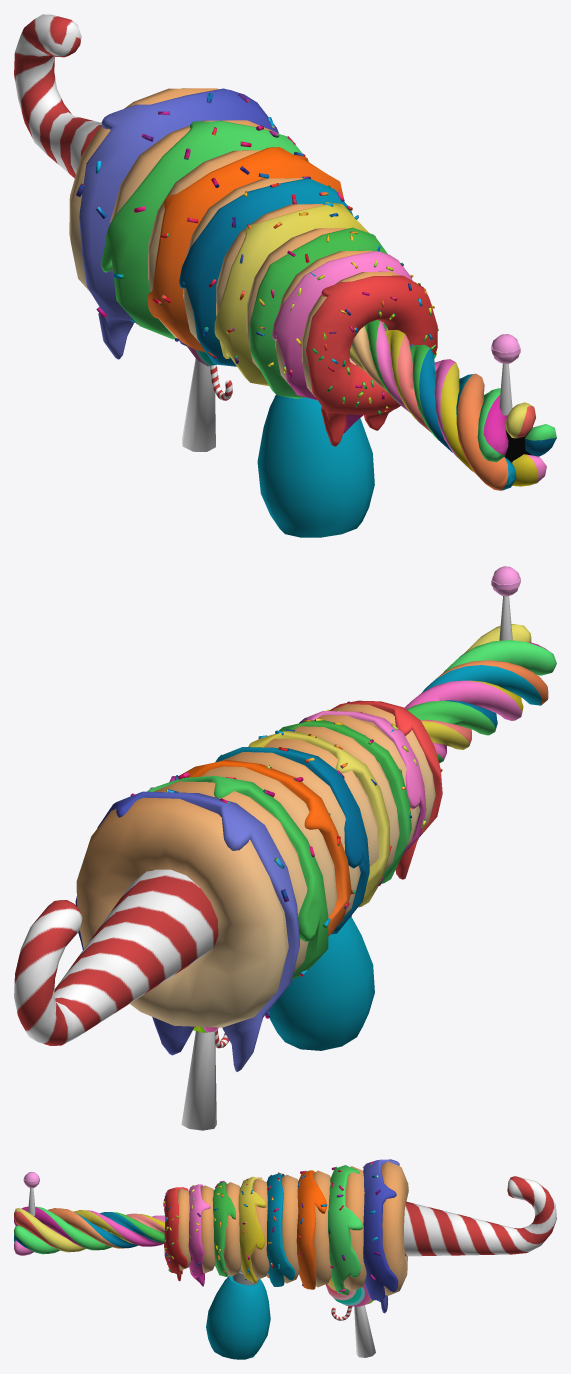
Rendered from CandyRifleMesh.fbx.
3 renders of one model, top to bottom at view 1: azimuth 30°, elevation 25°; view 2: azimuth 150°, elevation 25°; view 3: azimuth 270°, elevation 25°, orthographic. The views are drawn at different scales.
Parts seen in each view (by area): view 1: Gun, Gun.002, Jar; view 2: Gun, Gun.002, Jar; view 3: Gun, Gun.002, Jar.
Part boxes in pixels (x1,y1,x2,y2): Gun: [14, 14, 438, 451]; Gun.002: [349, 319, 556, 490]; Jar: [257, 394, 374, 537]; Gun: [14, 700, 442, 1130]; Gun.002: [404, 566, 556, 763]; Jar: [268, 917, 374, 1050]; Gun: [163, 1159, 556, 1357]; Gun.002: [14, 1172, 165, 1255]; Jar: [206, 1268, 270, 1359].
Size of the model in its own units: 1.72 by 2.64 by 6.97.
